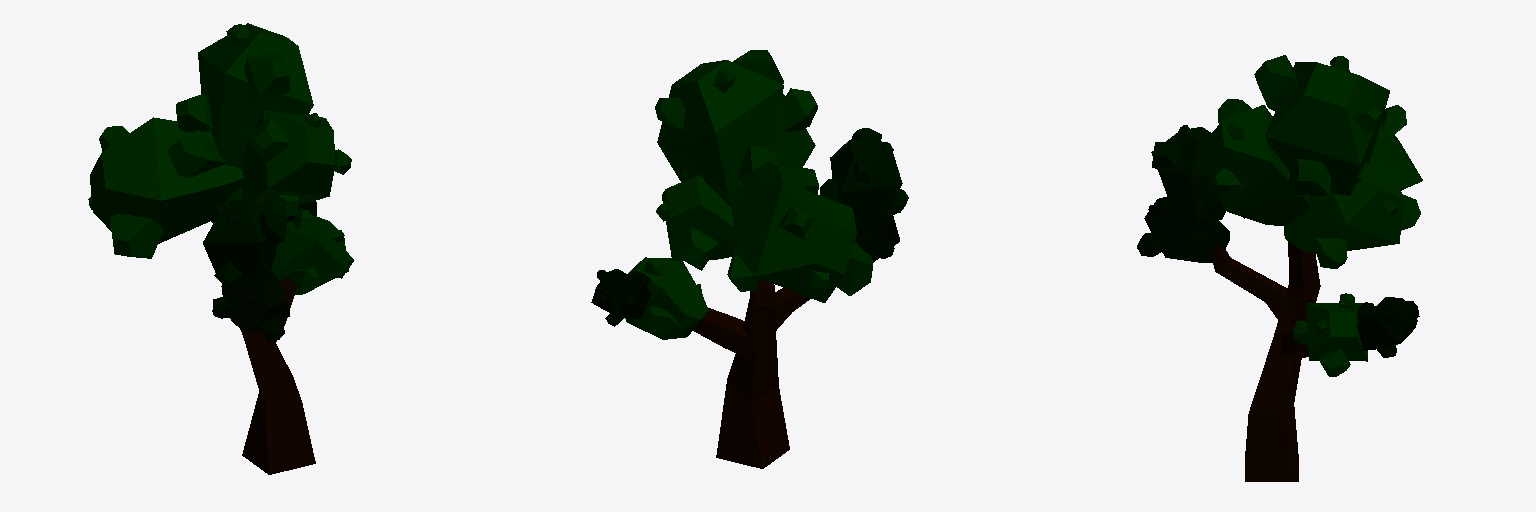
Rendered from tree.obj.
The picture shows the model from 3 angles: view 1: azimuth 30°, elevation 25°; view 2: azimuth 150°, elevation 25°; view 3: azimuth 270°, elevation 25°; orthographic projection.
Visible parts, largest first — view 1: Tree; view 2: Tree; view 3: Tree.
Part boxes in pixels (x1,y1,x2,y2): Tree: (88,23,353,474); Tree: (591,50,908,468); Tree: (1137,55,1422,481).
Bounding box in the file's own units: 6.63 × 10.48 × 6.64.